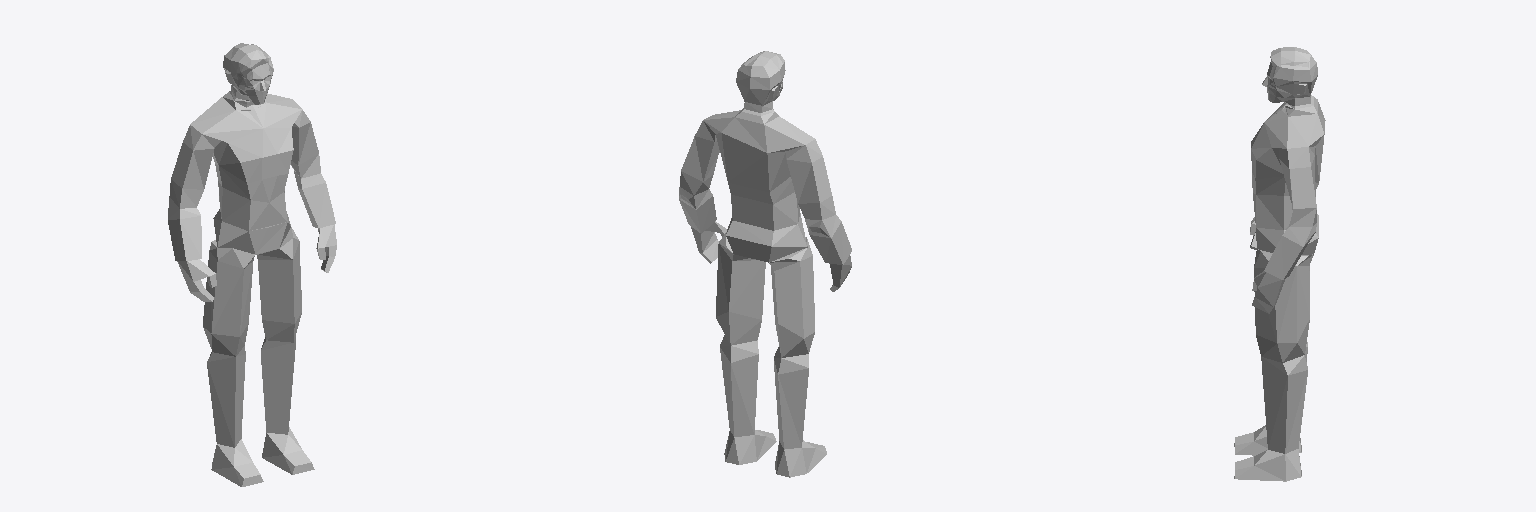
File: Manuel16.obj
3 renders of one model, left to right at view 1: azimuth 30°, elevation 25°; view 2: azimuth 150°, elevation 25°; view 3: azimuth 270°, elevation 25°, orthographic.
Visible parts, largest first — view 1: leon; view 2: leon; view 3: leon.
Boxes of the visible parts, box(x1,y1,x2,y2) form: leon: box(168, 43, 336, 486); leon: box(679, 51, 851, 477); leon: box(1234, 47, 1325, 481).
Bounding box in the file's own units: 4.82 × 12.18 × 2.44.